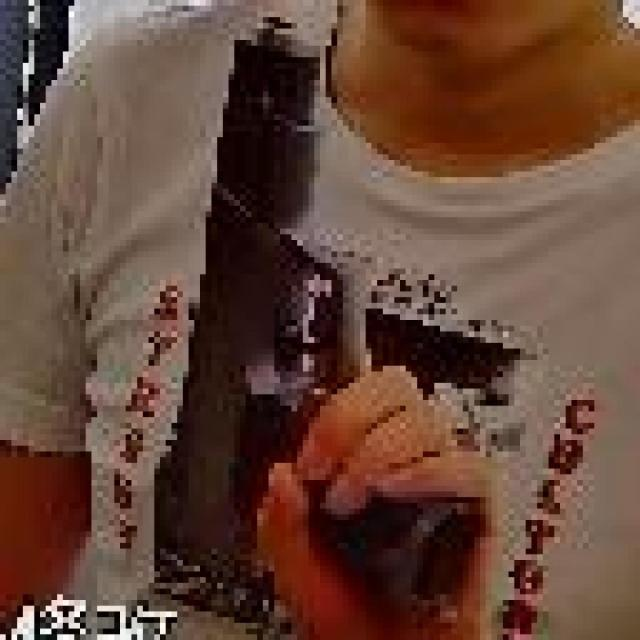pistol: (134, 1, 522, 611)
